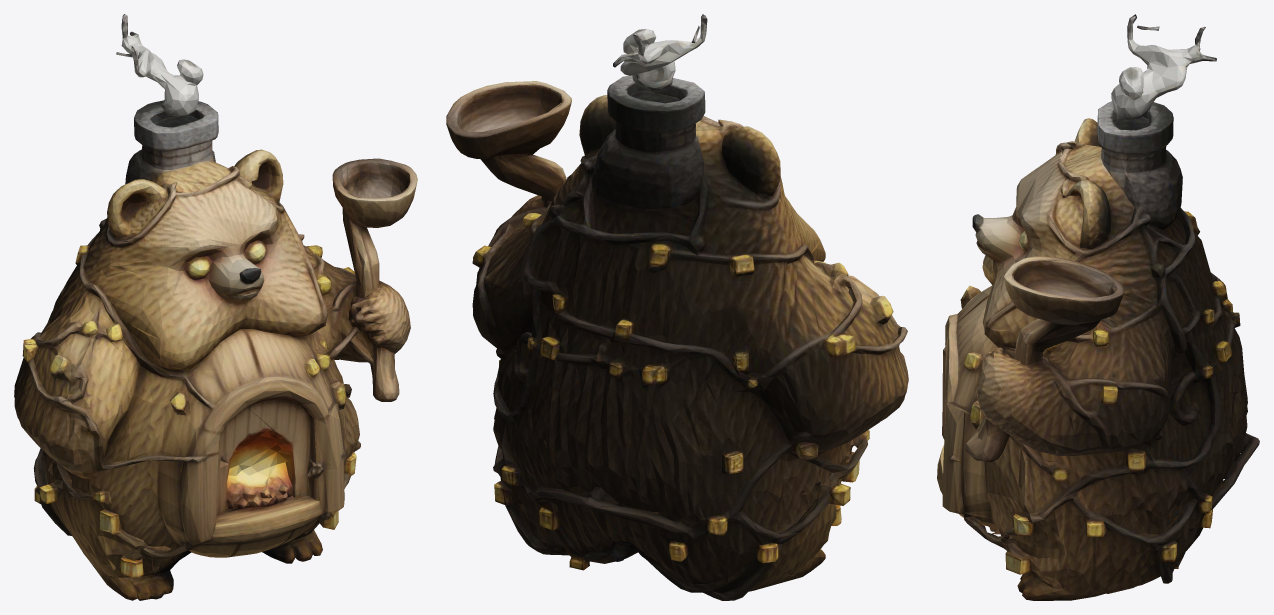
File: hearthkin__heartOfTheHome.glb
3 renders of one model, left to right at view 1: azimuth 30°, elevation 25°; view 2: azimuth 150°, elevation 25°; view 3: azimuth 270°, elevation 25°, orthographic. The views are drawn at different scales.
Parts seen in each view (by area): view 1: world; view 2: world; view 3: world.
Boxes of the visible parts, x1,y1,x2,y2 form: world: (14,14,417,600); world: (446,14,908,600); world: (937,14,1259,600).
Bounding box in the file's own units: 0.7877 × 0.9998 × 0.5642.
1 material, 1 textured.
